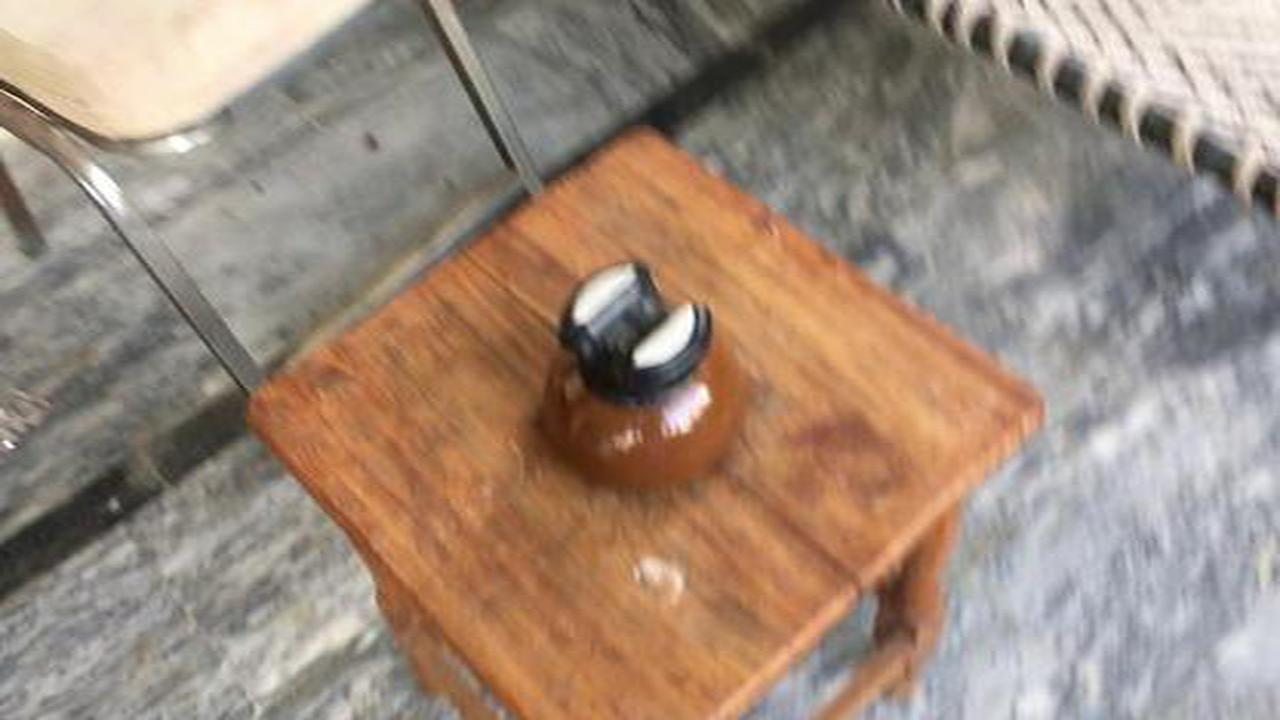insulator_pin: (502, 245, 770, 515)
